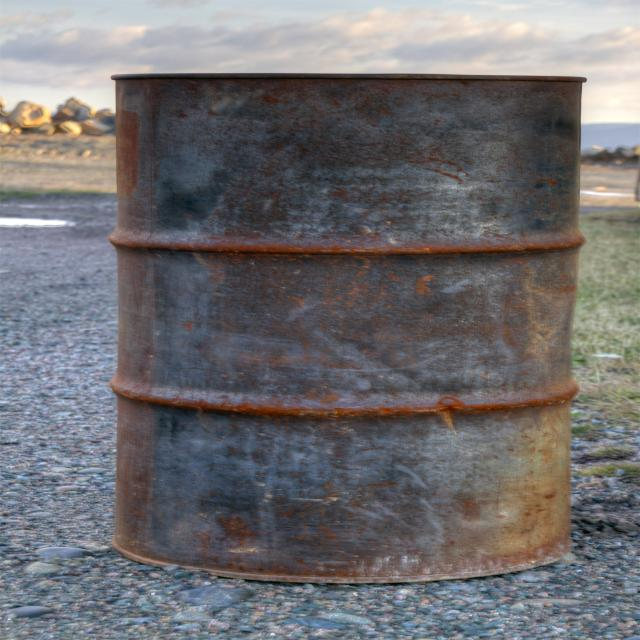metal: (112, 63, 592, 580)
